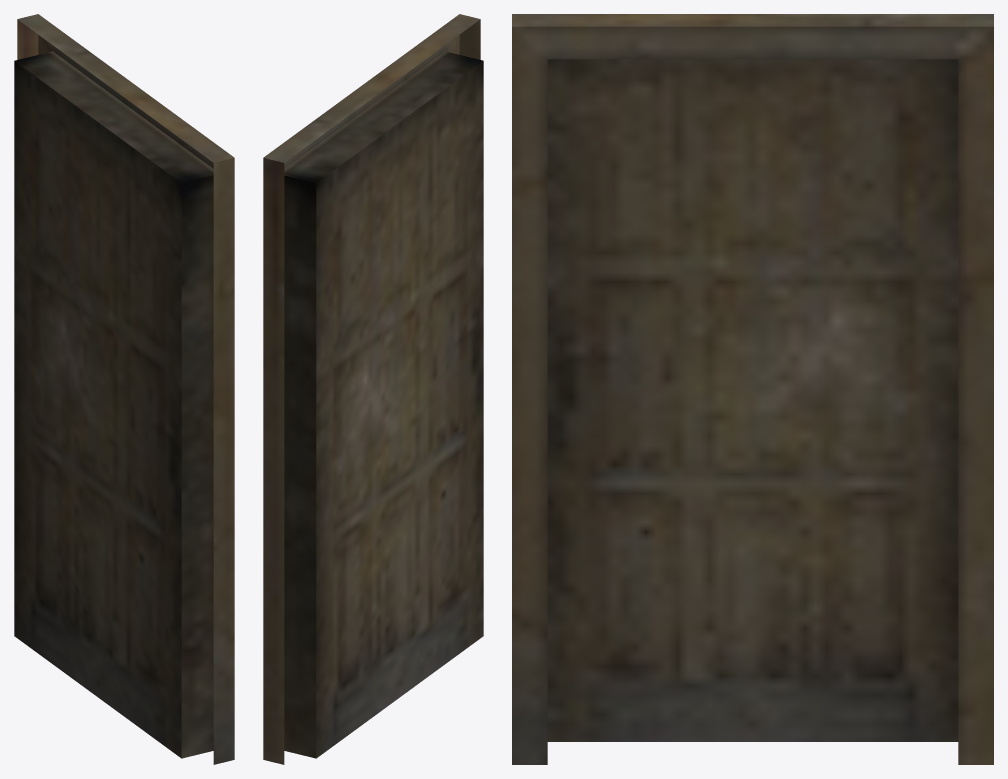
Rendered from BalconyDoor.FBX.
The picture shows the model from 3 angles, left to right: view 1: azimuth 30°, elevation 25°; view 2: azimuth 150°, elevation 25°; view 3: azimuth 270°, elevation 25°; orthographic projection. The views are drawn at different scales.
Visible parts, largest first — view 1: BalconyDoor; view 2: BalconyDoor; view 3: BalconyDoor.
Boxes of the visible parts, x1,y1,x2,y2 form: BalconyDoor: [14, 14, 234, 764]; BalconyDoor: [263, 14, 483, 764]; BalconyDoor: [512, 14, 993, 764].
Bounding box in the file's own units: 18.28 × 272 × 161.
